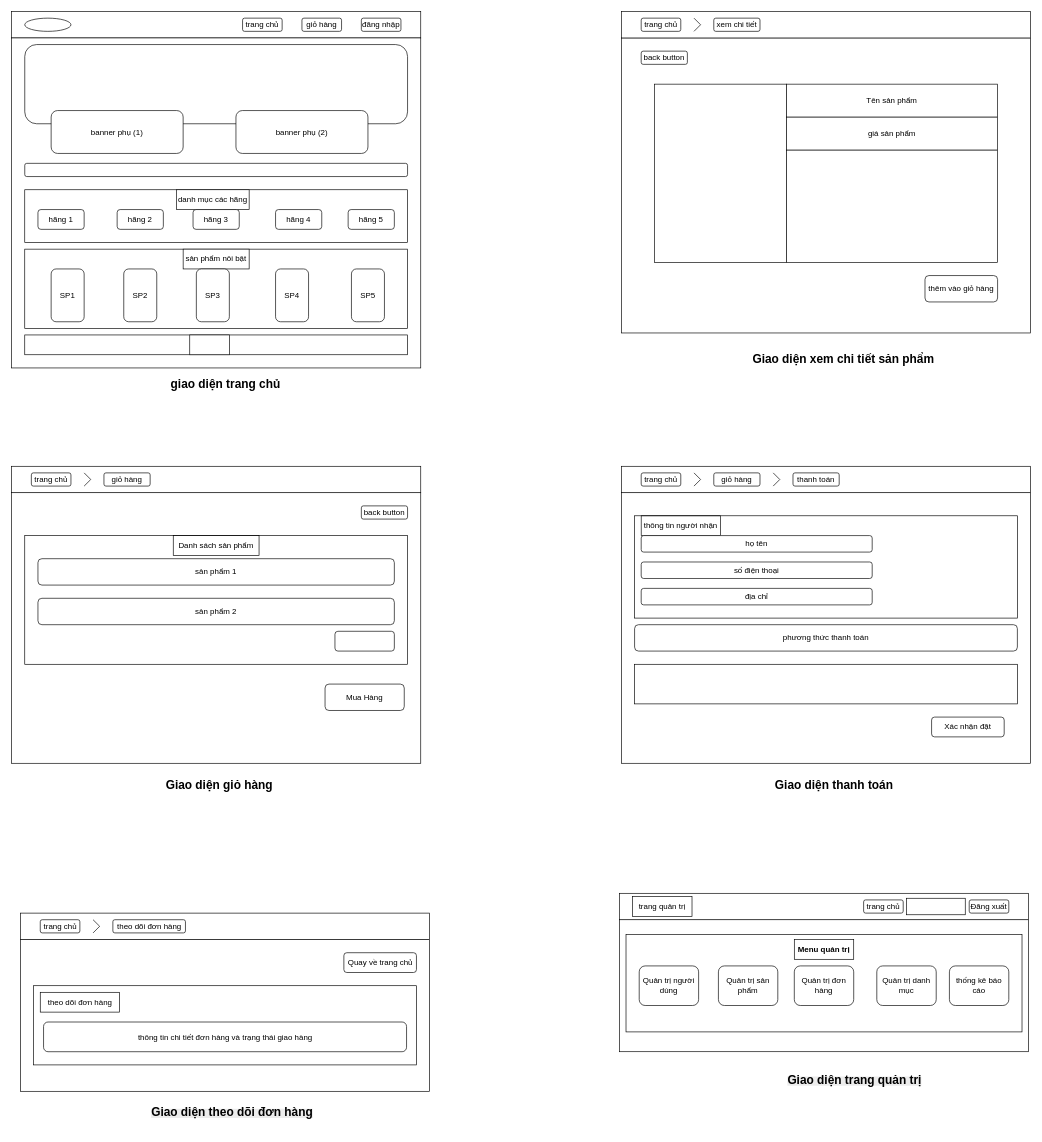
The diagram is 1042 pixels wide and 1142 high, and some of its shapes have lost their labels. The shapes that lost their labels are listed below. From the top down, each one's box as (x1, y1, x2, y2) in pixels, then its label:
(24, 17, 71, 31): logo
(24, 44, 408, 124): banner chính
(24, 163, 408, 177): phần tìm kiếm
(654, 83, 786, 262): Hình ảnh sản phảm
(786, 149, 998, 262): thông tin chi tiết
(189, 334, 229, 355): FOOTER
(334, 631, 394, 651): tổng tiền
(634, 664, 1017, 704): chi tiết đơn hàng
(906, 898, 965, 915): xin chào, admin
